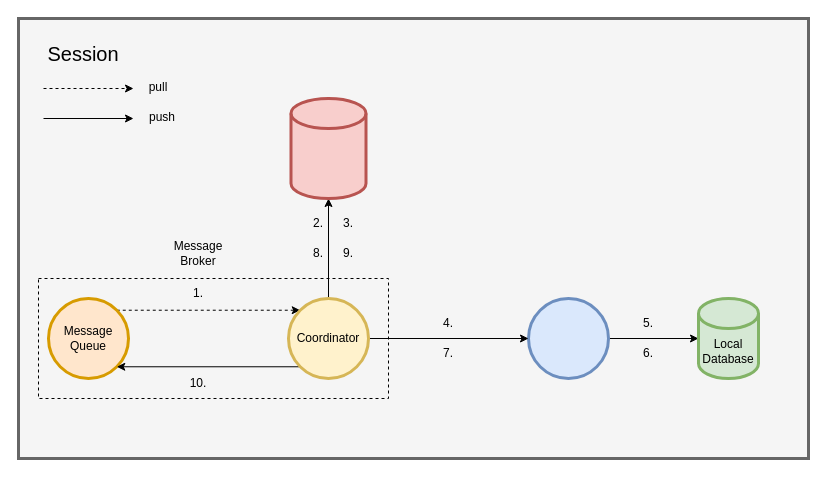
Some shapes in this 827 by 477 pixel diagram are drawn without their labels. The shapes that lost their labels are listed below. From the top down, each one's centre as x and y in pixels, then its label:
point 328,148: Central Data Store
point 568,338: Logical Service
